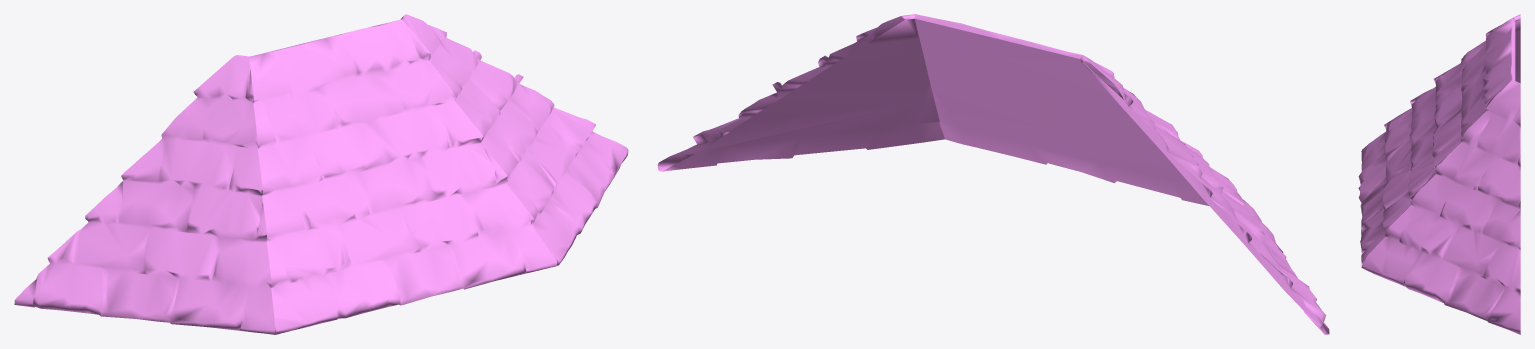
File: small_roof_03_balcony_01.fbx
3 views of the same model, side by side, from view 1: azimuth 30°, elevation 25°; view 2: azimuth 150°, elevation 25°; view 3: azimuth 270°, elevation 25° (orthographic). The views are drawn at different scales.
Visible parts, largest first — view 1: small_roof_03_balcony_01_LOD0; view 2: small_roof_03_balcony_01_LOD0; view 3: small_roof_03_balcony_01_LOD0.
Boxes of the visible parts, bbox=[...] form: small_roof_03_balcony_01_LOD0: bbox=[14, 14, 628, 334]; small_roof_03_balcony_01_LOD0: bbox=[657, 14, 1329, 334]; small_roof_03_balcony_01_LOD0: bbox=[1358, 14, 1520, 334].
Size of the model in its own units: 785 by 243 by 217.
